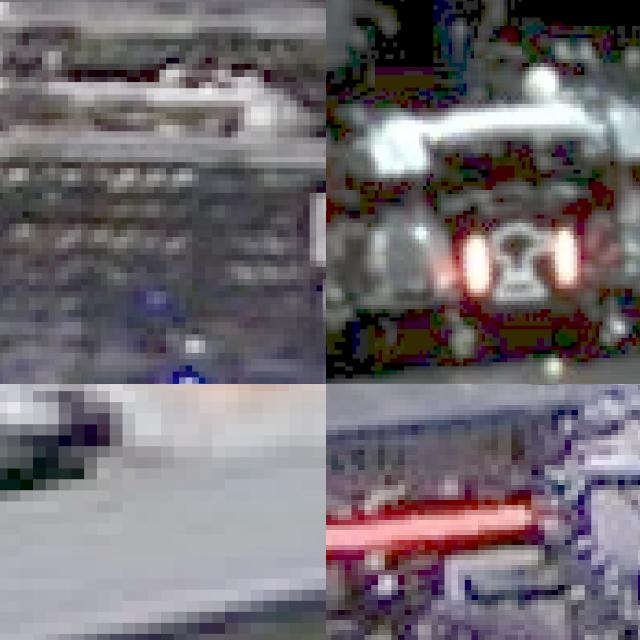Rs: (467, 223, 570, 293)
